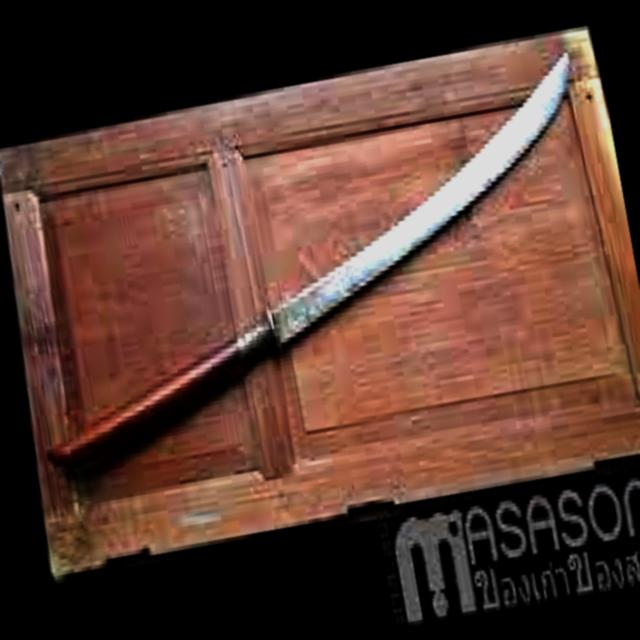long sword: (3, 54, 620, 479)
